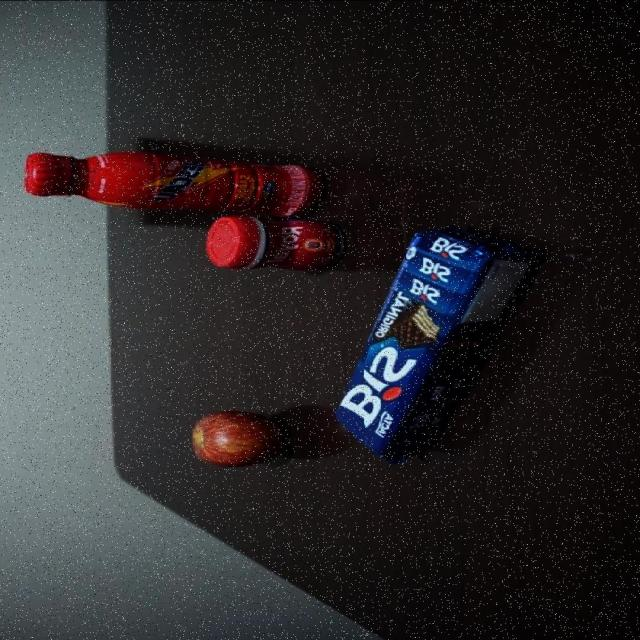Apple: (190, 411, 286, 468)
ChocolateMilk: (23, 151, 325, 218)
Yeast: (204, 213, 347, 270)
